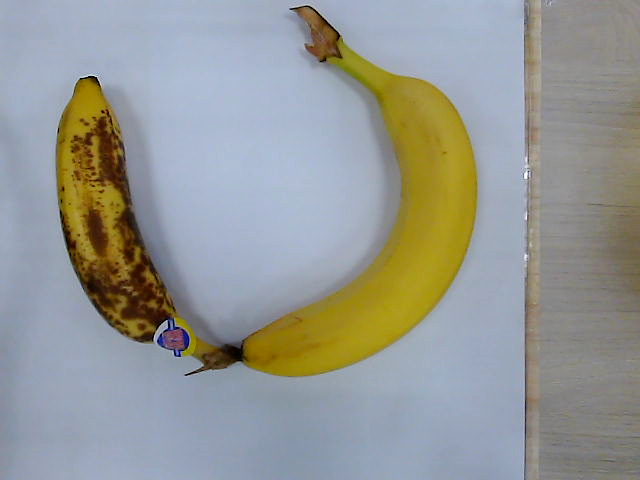fresh_banana: (241, 7, 477, 376)
rotten_banana: (56, 75, 241, 373)
